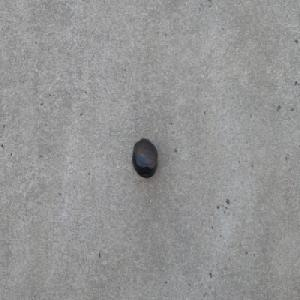FuelCap: (132, 137, 158, 178)
